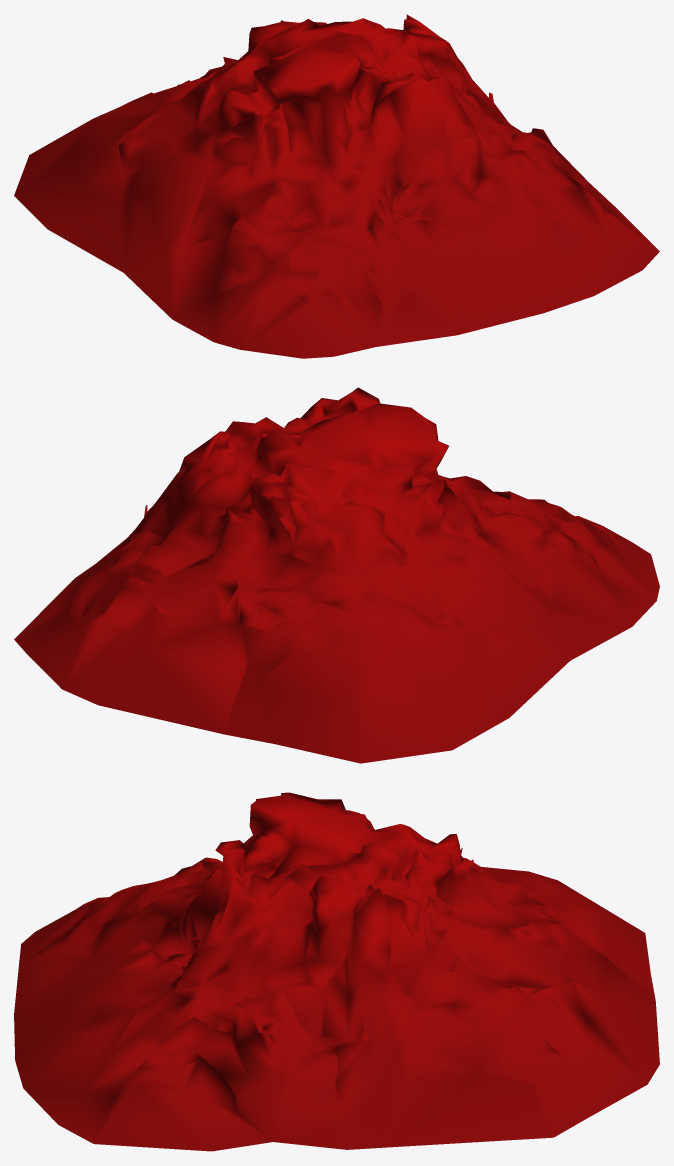
The model's file is stump_a.glb.
The picture shows the model from 3 angles, top to bottom: view 1: azimuth 30°, elevation 25°; view 2: azimuth 150°, elevation 25°; view 3: azimuth 270°, elevation 25°; orthographic projection. The views are drawn at different scales.
Visible parts, largest first — view 1: LOD0; view 2: LOD0; view 3: LOD0.
Boxes of the visible parts, x1,y1,x2,y2 form: LOD0: (14, 14, 659, 358); LOD0: (14, 387, 659, 763); LOD0: (14, 792, 659, 1151).
Size of what is drawn, in the model's own units: 1.43 by 0.57 by 1.59.
